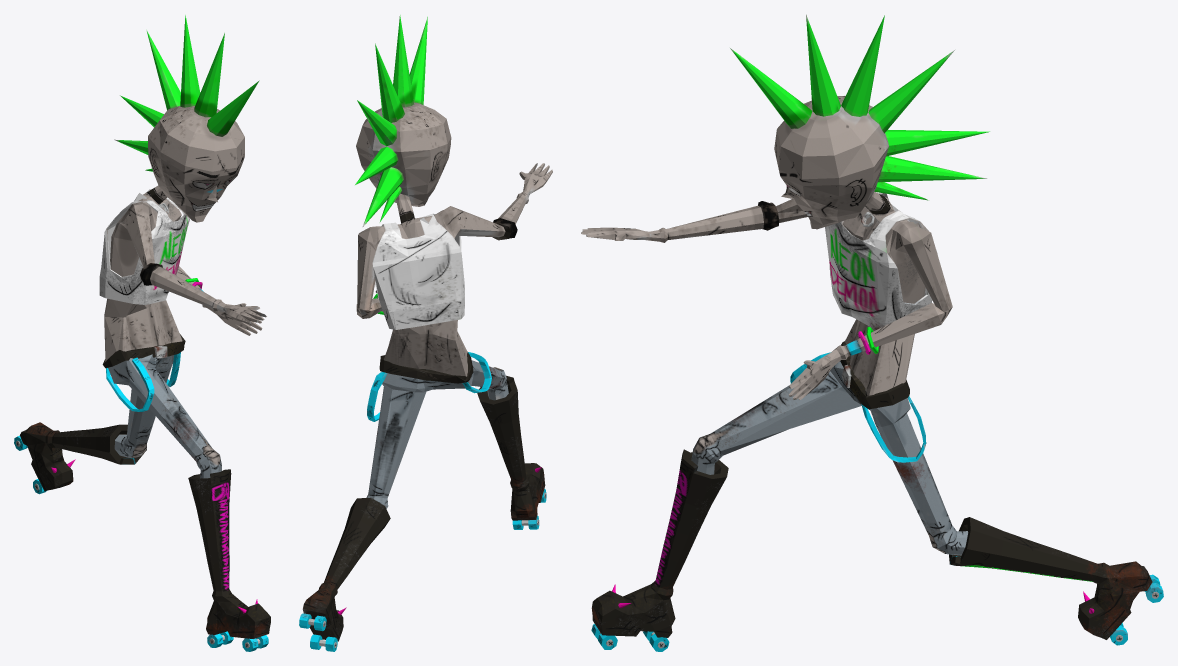
File: punkAnimation_000013.obj
3 renders of one model, left to right at view 1: azimuth 30°, elevation 25°; view 2: azimuth 150°, elevation 25°; view 3: azimuth 270°, elevation 25°, orthographic. The views are drawn at different scales.
Visible parts, largest first — view 1: Cube.004_Cube.003; view 2: Cube.004_Cube.003; view 3: Cube.004_Cube.003.
Boxes of the visible parts, x1,y1,x2,y2 form: Cube.004_Cube.003: (14, 15, 270, 651); Cube.004_Cube.003: (299, 15, 552, 651); Cube.004_Cube.003: (581, 14, 1163, 651).
Size of the model in its own units: 1.65 by 6.62 by 5.2.
